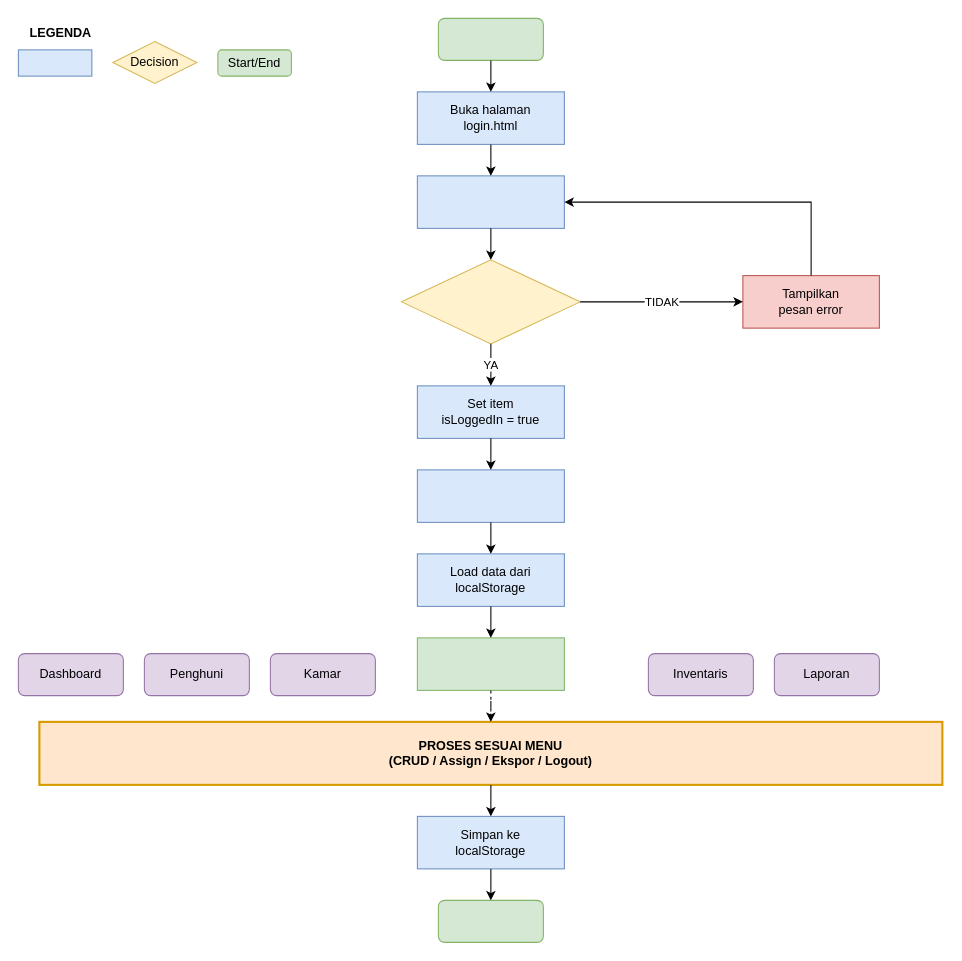
Some shapes in this 962 by 961 pixel diagram are drawn without their labels. Here are the shapes that lost their labels. From the top down, the centre of each, then its label:
At (x=490, y=38): "START".
At (x=54, y=62): "Proses".
At (x=490, y=201): "Input username & password".
At (x=490, y=301): "Validasi kredensial?".
At (x=490, y=495): "Redirect ke index.html".
At (x=490, y=663): "Render Dashboard (lihat menu)".
At (x=490, y=920): "END".
